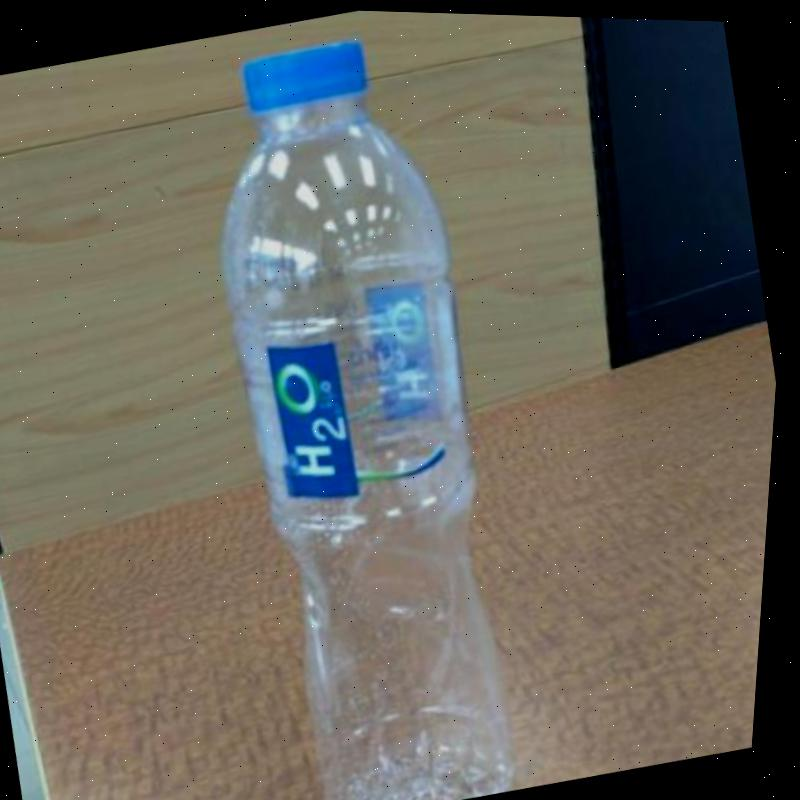botella: (158, 23, 576, 800)
